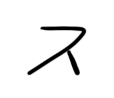su: (23, 23, 89, 79)
